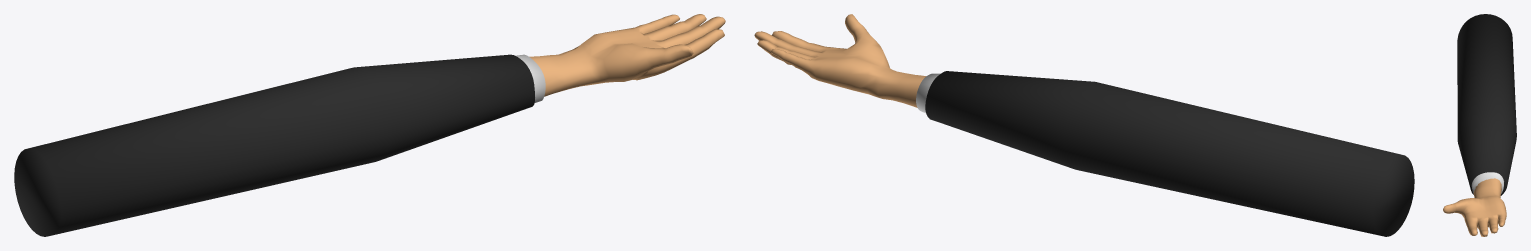
File: sagel.fbx
3 views of the same model, side by side, from view 1: azimuth 30°, elevation 25°; view 2: azimuth 150°, elevation 25°; view 3: azimuth 270°, elevation 25° (orthographic). The views are drawn at different scales.
Visible parts, largest first — view 1: Cylinder; view 2: Cylinder; view 3: Cylinder.
Part boxes in pixels (x1,y1,x2,y2): Cylinder: (14,14,725,236); Cylinder: (754,14,1414,236); Cylinder: (1443,14,1516,236).
Bounding box in the file's own units: 11.44 × 1.41 × 1.78.
